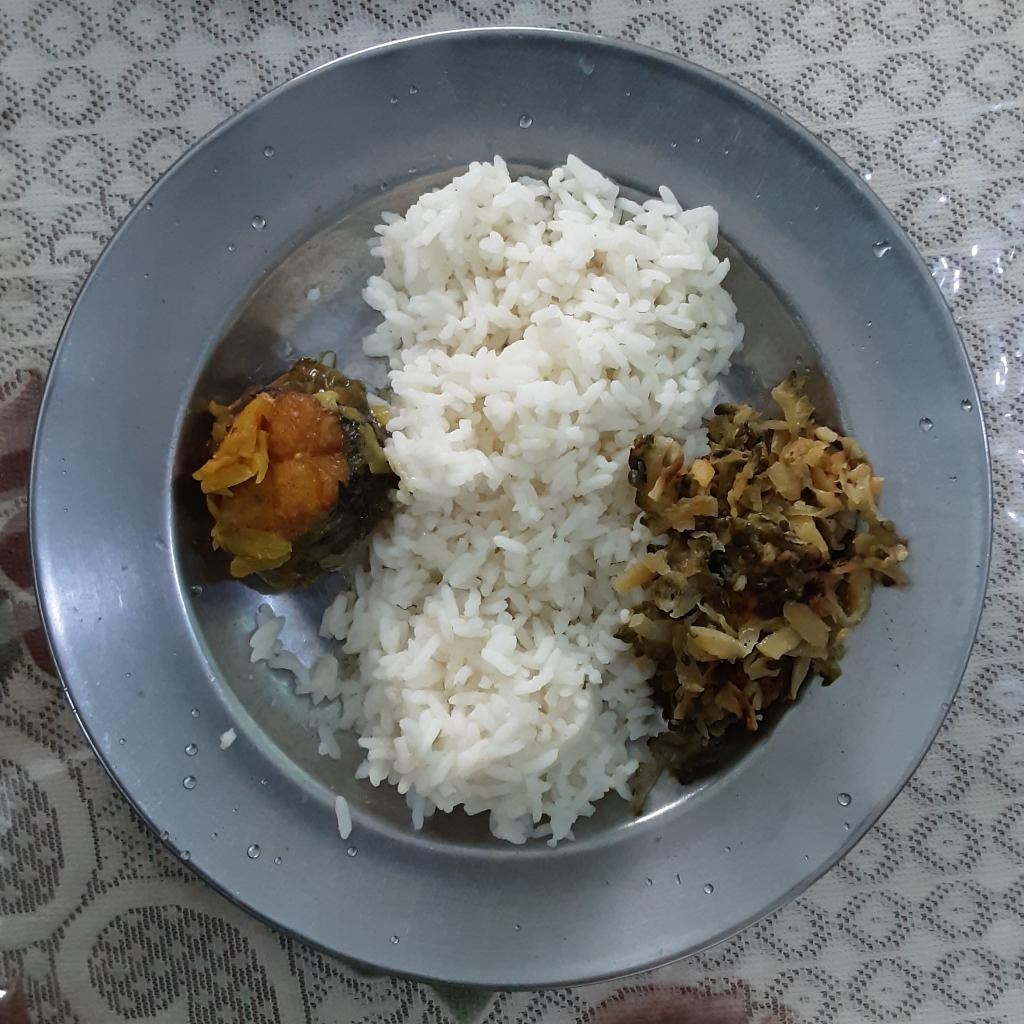fish: (194, 359, 394, 606)
korola-vaji: (624, 370, 817, 510), (679, 510, 830, 622)
potato: (604, 430, 918, 768), (672, 510, 830, 632)
rice: (243, 151, 745, 845), (329, 799, 346, 833), (346, 833, 352, 843)
